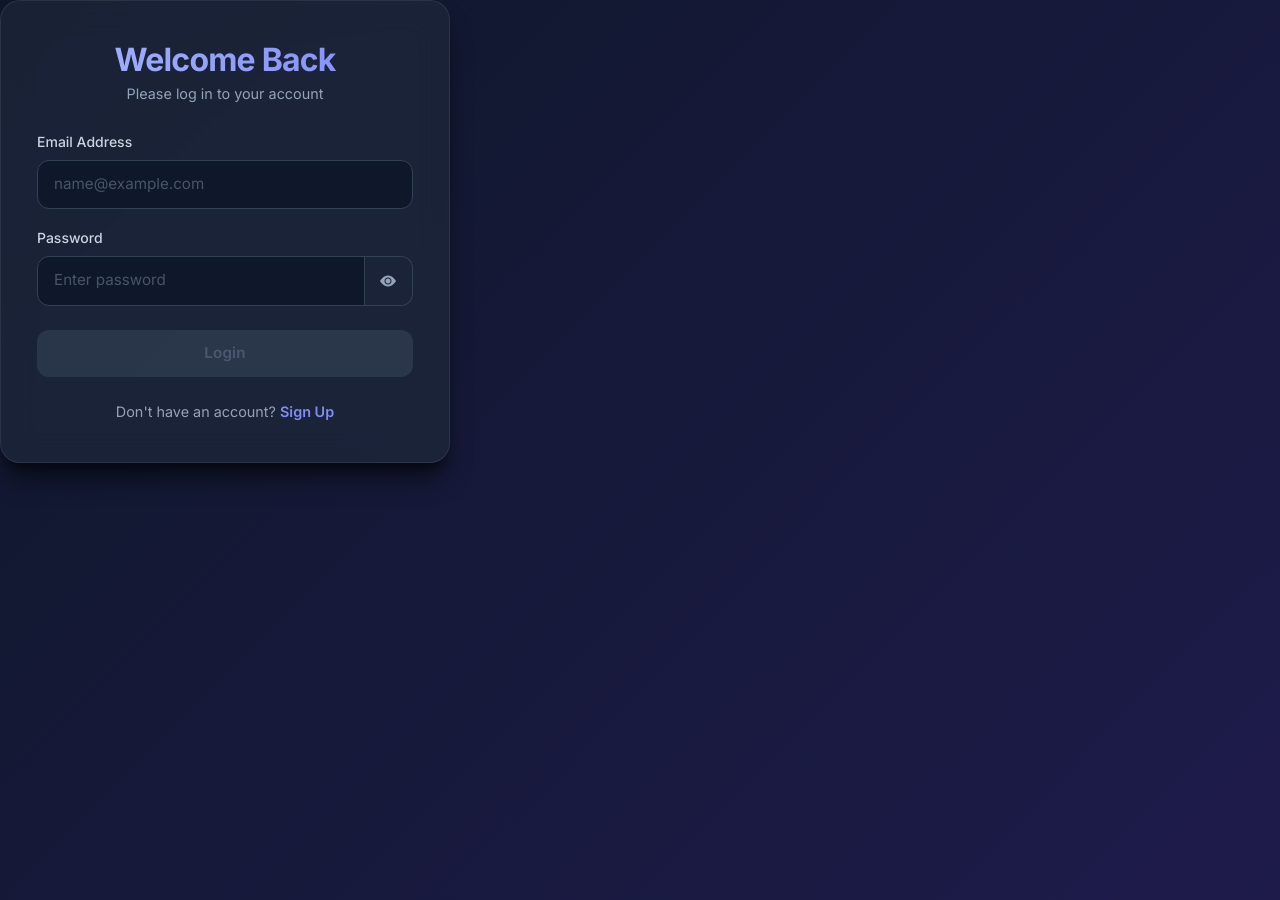
Test case: Login Component Tests › shows error alert when login API returns an error response
The width and height of the screenshot is (1280, 900).
// Enter credentials and submit
Type "wrong@example.com" into the field with placeholder "name@example.com" at (225, 184), box 37,160 -> 413,209
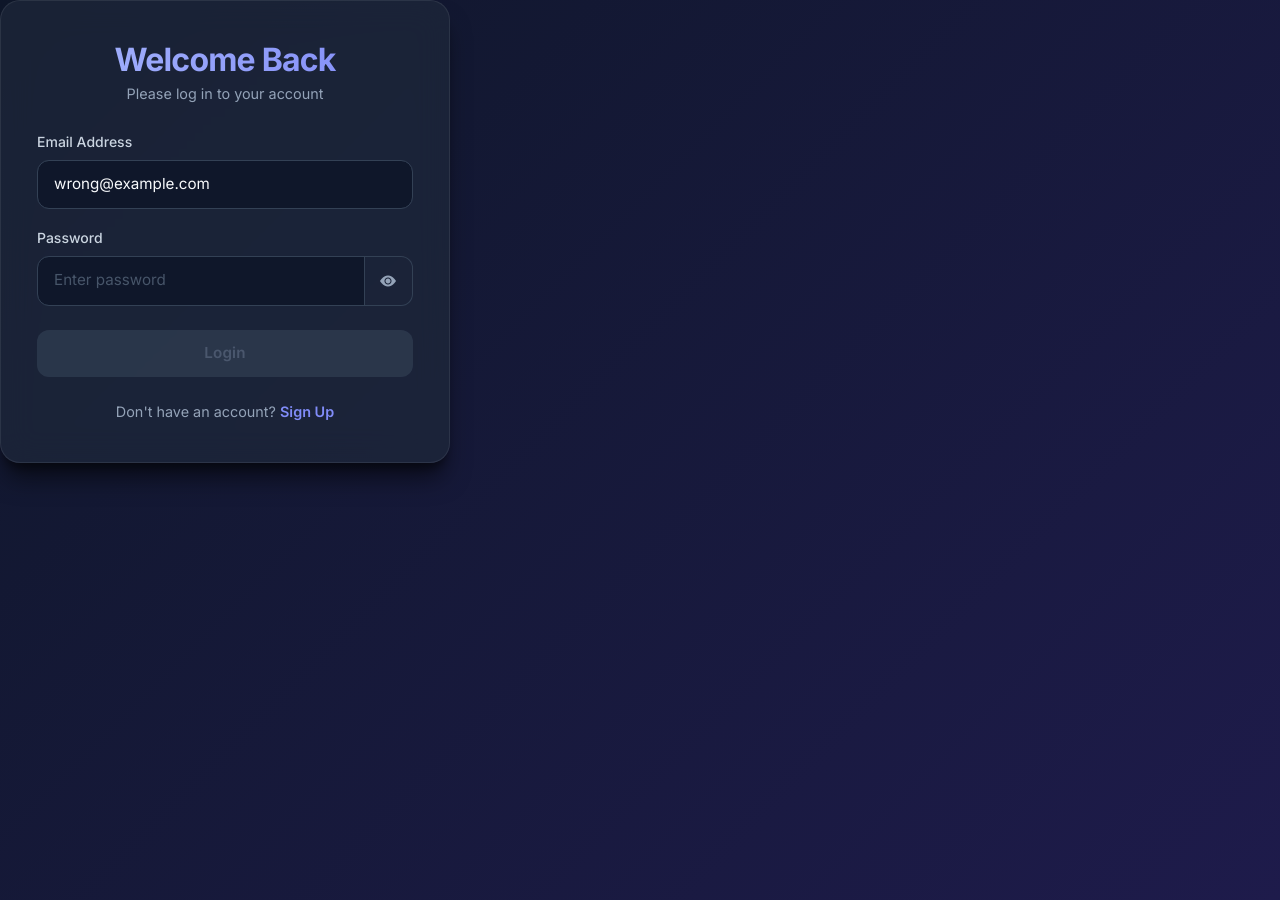
Type "wrongpassword" into the password field with placeholder "Enter password" at (201, 281), box 37,256 -> 365,306
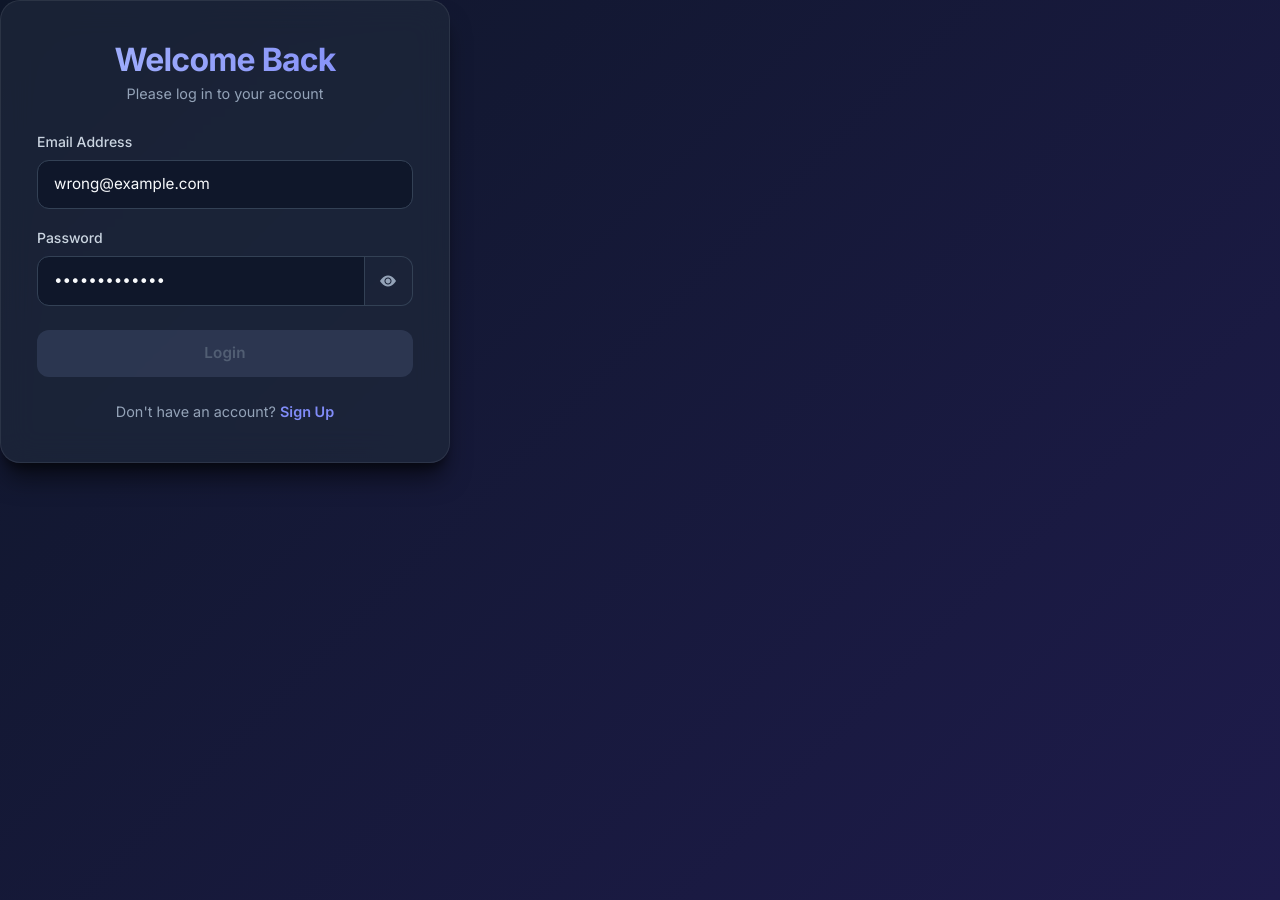
Click the button "Login" at (225, 353), box 37,330 -> 413,377
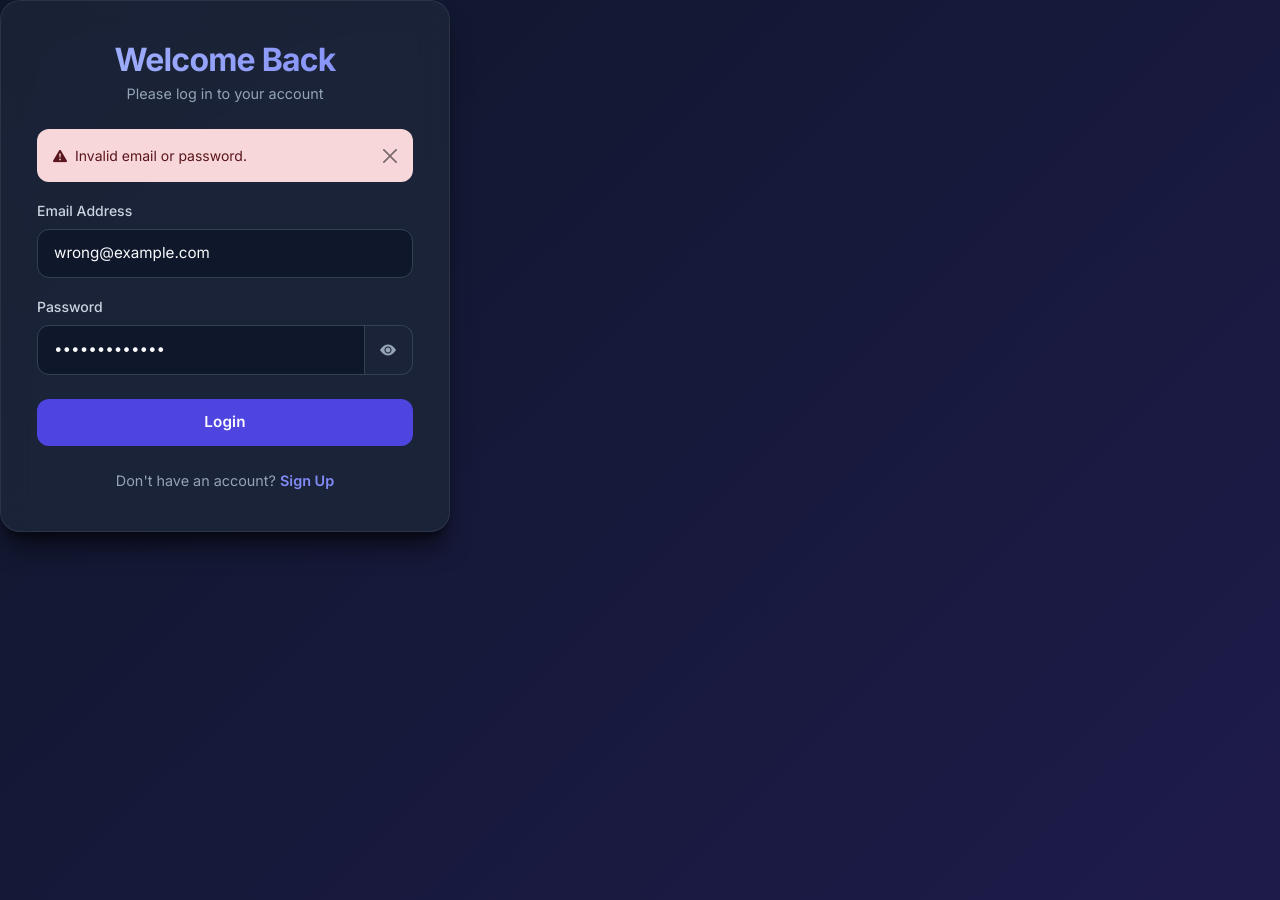
Result: the text "Invalid email or password." is shown at 37,129 -> 413,182
